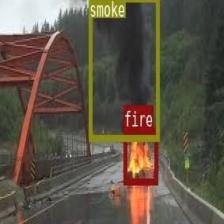fire: (124, 127, 158, 183)
smoke: (88, 0, 158, 140)
